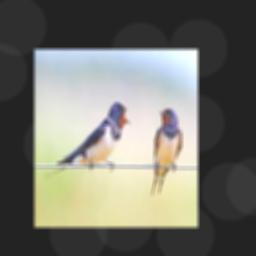Swallow: (43, 102, 132, 179), (152, 106, 182, 195)
